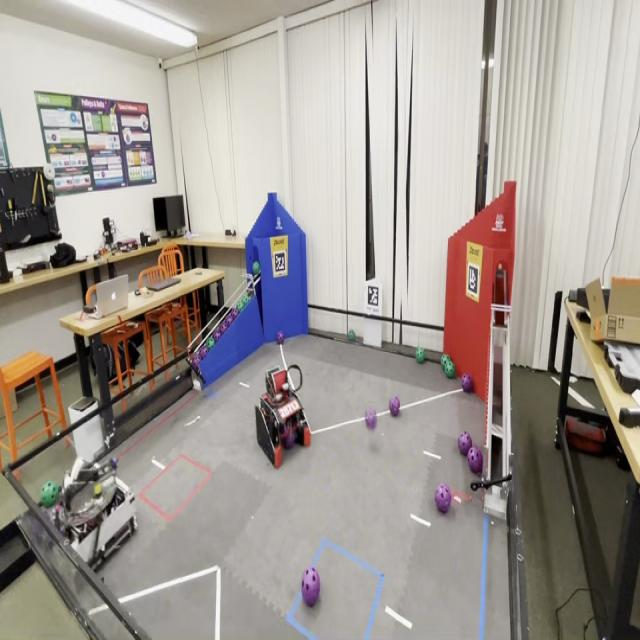artifact_green: (40, 480, 59, 508), (444, 360, 455, 379), (198, 345, 207, 362), (191, 352, 200, 369), (416, 348, 425, 363), (441, 354, 450, 369), (347, 329, 356, 343), (230, 307, 239, 321), (252, 261, 260, 276), (206, 337, 215, 349), (236, 299, 244, 312), (242, 294, 249, 308)
artifact_purple: (302, 567, 320, 606), (435, 483, 451, 513), (467, 446, 483, 475), (458, 432, 472, 456), (282, 427, 295, 449), (365, 409, 377, 430), (389, 396, 400, 417), (462, 374, 473, 393), (198, 345, 208, 361), (226, 313, 235, 328), (191, 354, 200, 368), (218, 322, 227, 335), (276, 331, 284, 345), (224, 316, 232, 330), (231, 307, 239, 319), (214, 329, 221, 342)
